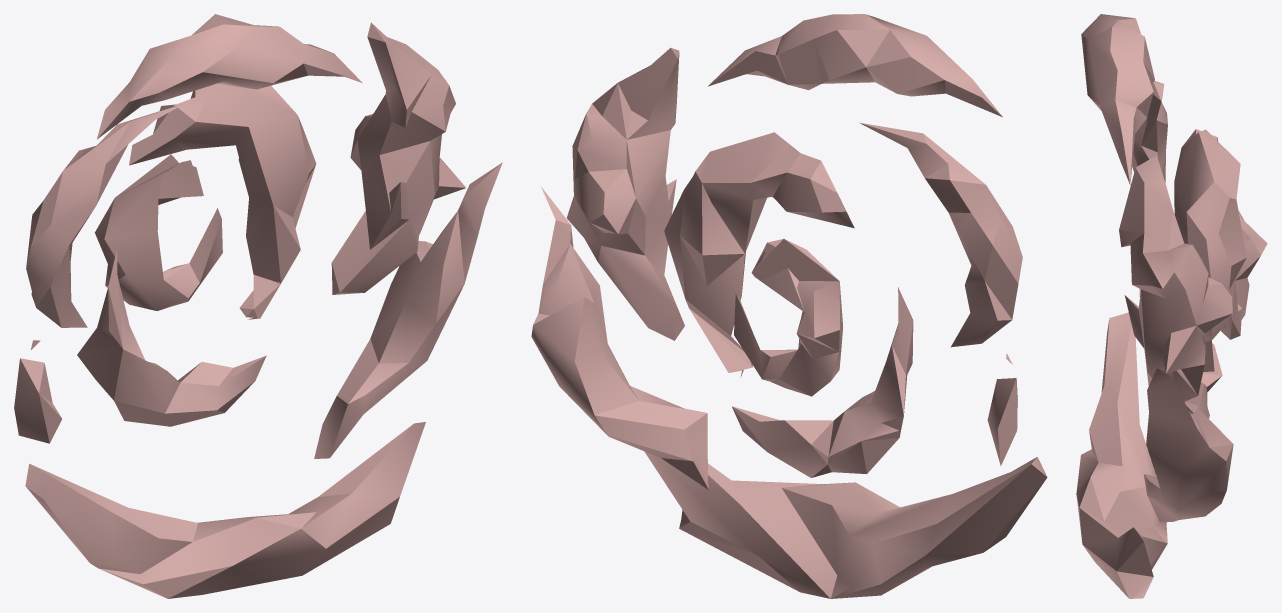
File: Planet_Clouds_002.fbx
3 renders of one model, left to right at view 1: azimuth 30°, elevation 25°; view 2: azimuth 150°, elevation 25°; view 3: azimuth 270°, elevation 25°, orthographic. The views are drawn at different scales.
Visible parts, largest first — view 1: Planet.Clouds.002; view 2: Planet.Clouds.002; view 3: Planet.Clouds.002.
Part boxes in pixels (box(x1,y1,x2,y2)): Planet.Clouds.002: box(14, 14, 502, 598); Planet.Clouds.002: box(531, 14, 1047, 598); Planet.Clouds.002: box(1076, 14, 1267, 598).
Bounding box in the file's own units: 53933 × 60425 × 20026.
